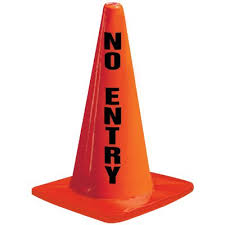cones: (31, 3, 198, 221)
